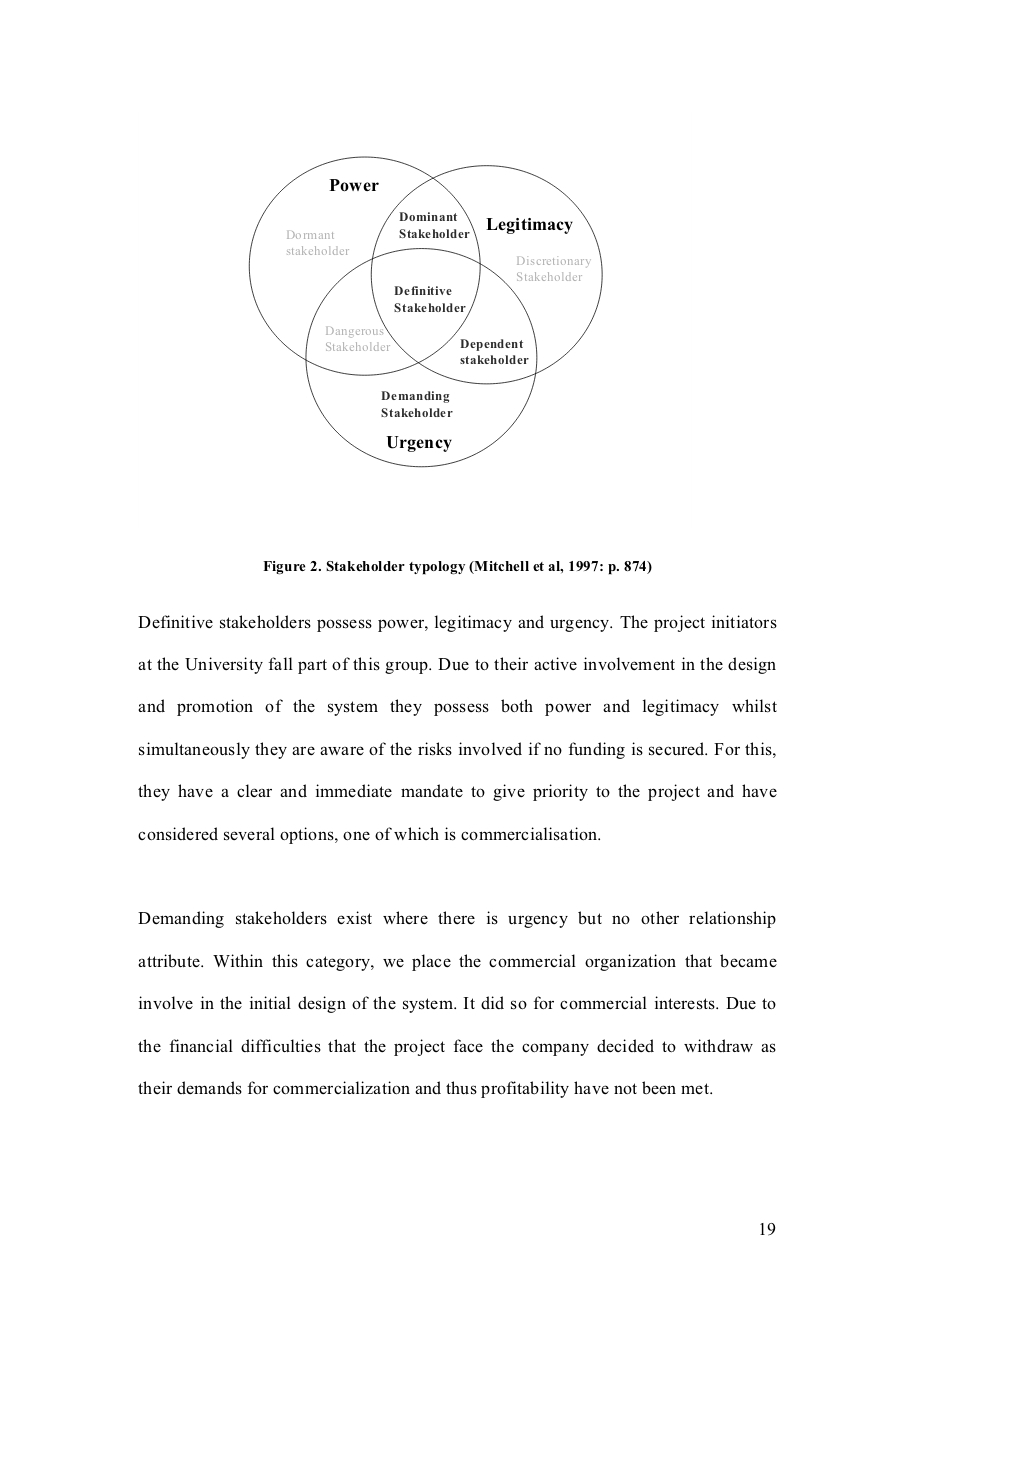figure: (248, 155, 602, 468)
